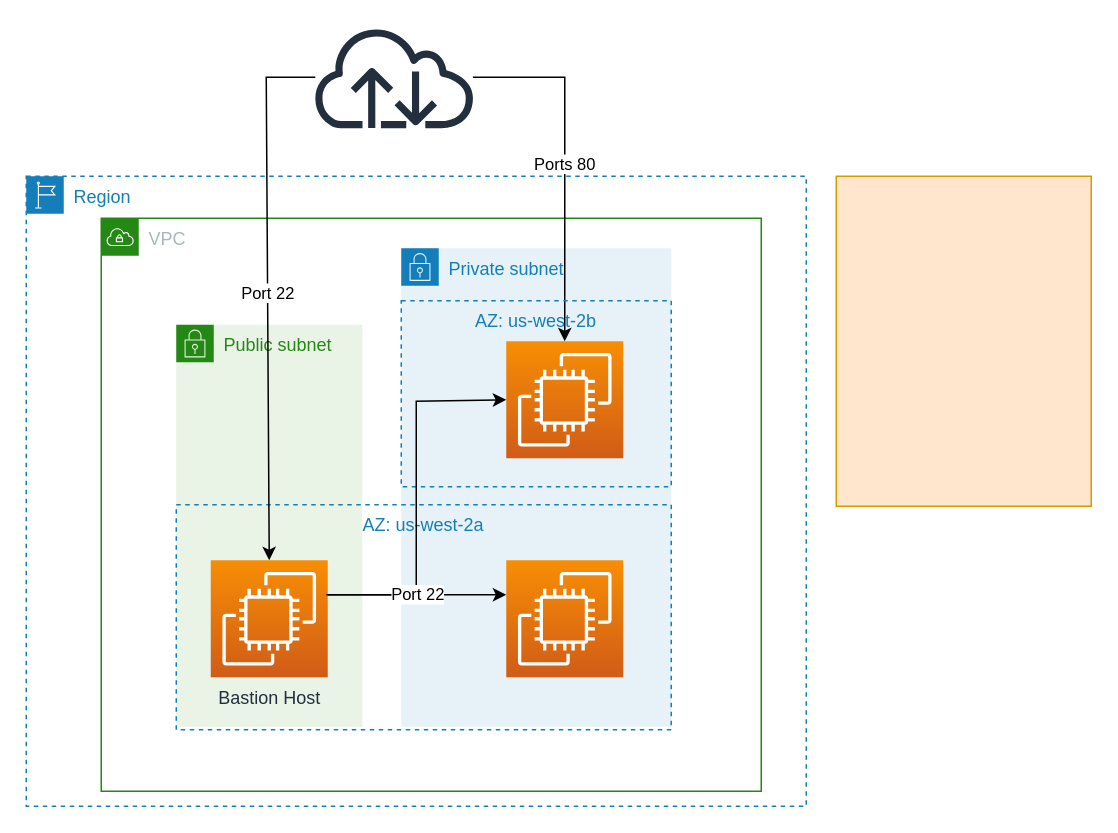
This 1118x833 diagram has some shape labels left out. The centre of each missing label's shape, as x and y in pixels:
Application Server: the point at 564,618
Public Subnet 10.0.101.0/24 10.0.102.0/24 Private Subnet 10.0.1.0/24 10.0.2.0/24: the point at 963,340
Web Server: the point at 564,399
